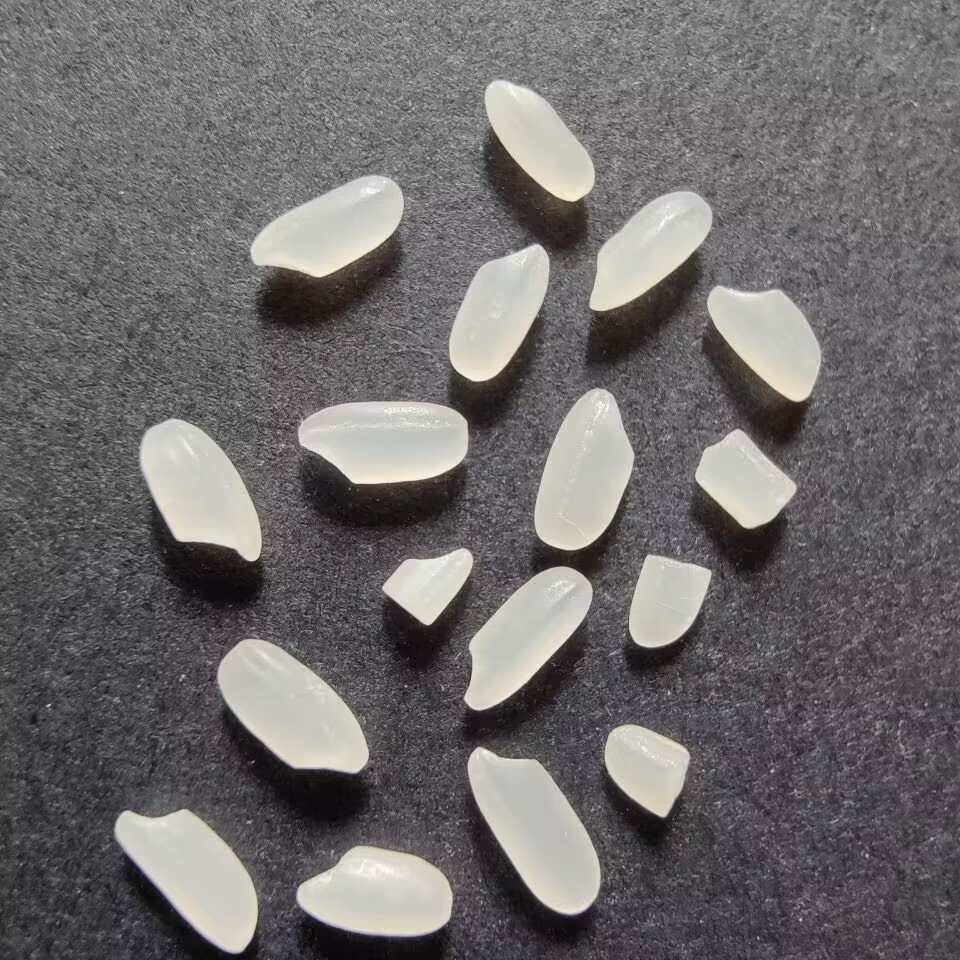broken: (688, 426, 802, 536), (600, 720, 694, 824), (622, 551, 715, 653), (378, 540, 476, 629)
rice: (462, 741, 606, 926), (106, 803, 262, 958), (208, 636, 372, 779), (455, 558, 596, 714), (134, 416, 266, 572), (524, 386, 641, 557), (243, 167, 410, 282), (580, 185, 718, 318), (285, 838, 464, 939), (287, 396, 475, 488), (702, 278, 827, 408), (444, 238, 553, 381), (481, 77, 600, 206)
